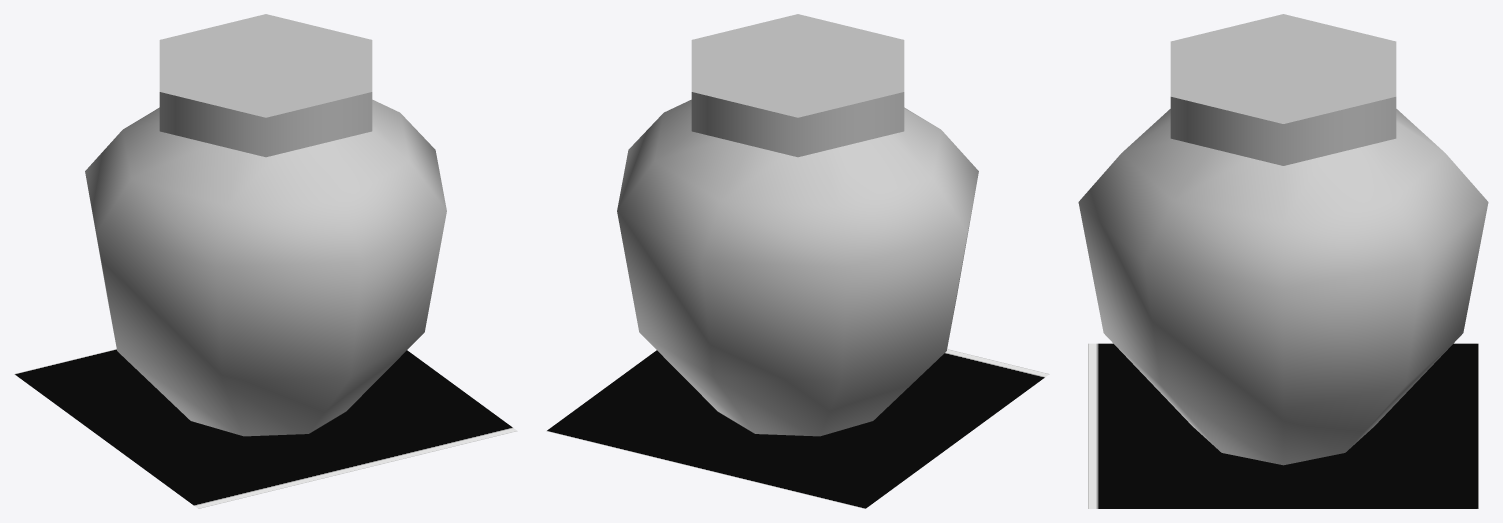
File: vase_01.fbx
3 views of the same model, side by side, from view 1: azimuth 30°, elevation 25°; view 2: azimuth 150°, elevation 25°; view 3: azimuth 270°, elevation 25° (orthographic). The views are drawn at different scales.
Parts seen in each view (by area): view 1: vase_01, shadow; view 2: vase_01, shadow; view 3: vase_01, shadow.
Boxes of the visible parts, box(x1,y1,x2,y2) form: vase_01: box(85, 14, 446, 436); shadow: box(14, 349, 517, 508); vase_01: box(617, 14, 978, 436); shadow: box(546, 349, 1049, 508); vase_01: box(1078, 14, 1488, 465); shadow: box(1088, 343, 1478, 508).
Size of the model in its own units: 26.57 by 25.6 by 26.21.
